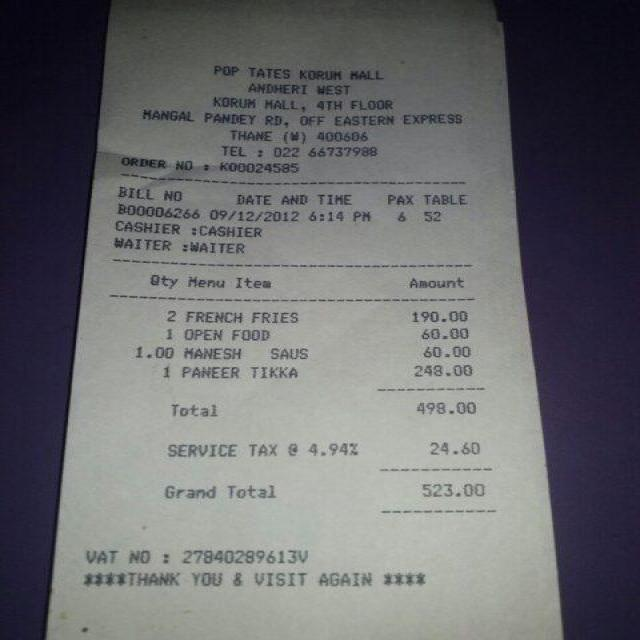TotalPrice: (139, 476, 517, 520)
